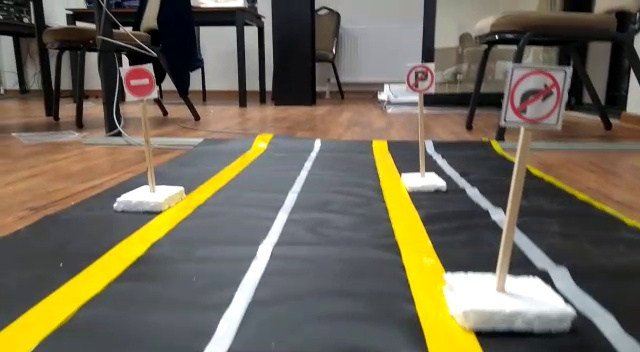girisi_olmayan_yol: (122, 65, 158, 99)
park_yapilmaz: (407, 65, 434, 92)
saga_donulmez: (509, 67, 563, 126)
